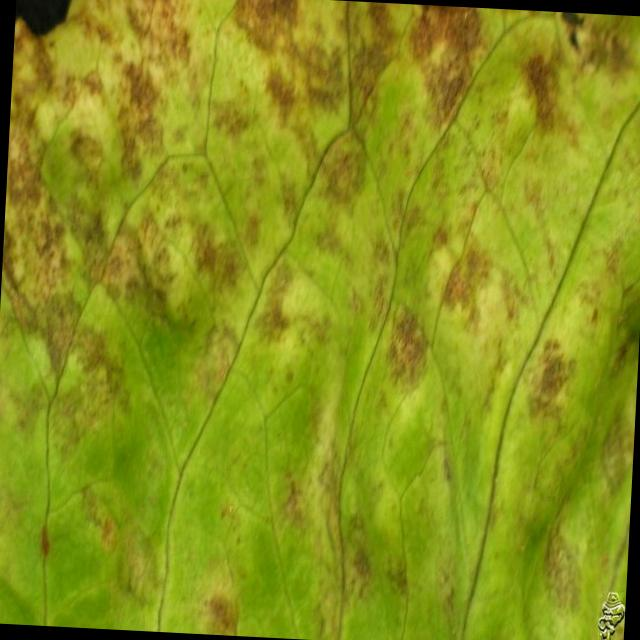Septoria_Blight: (0, 3, 631, 548)
